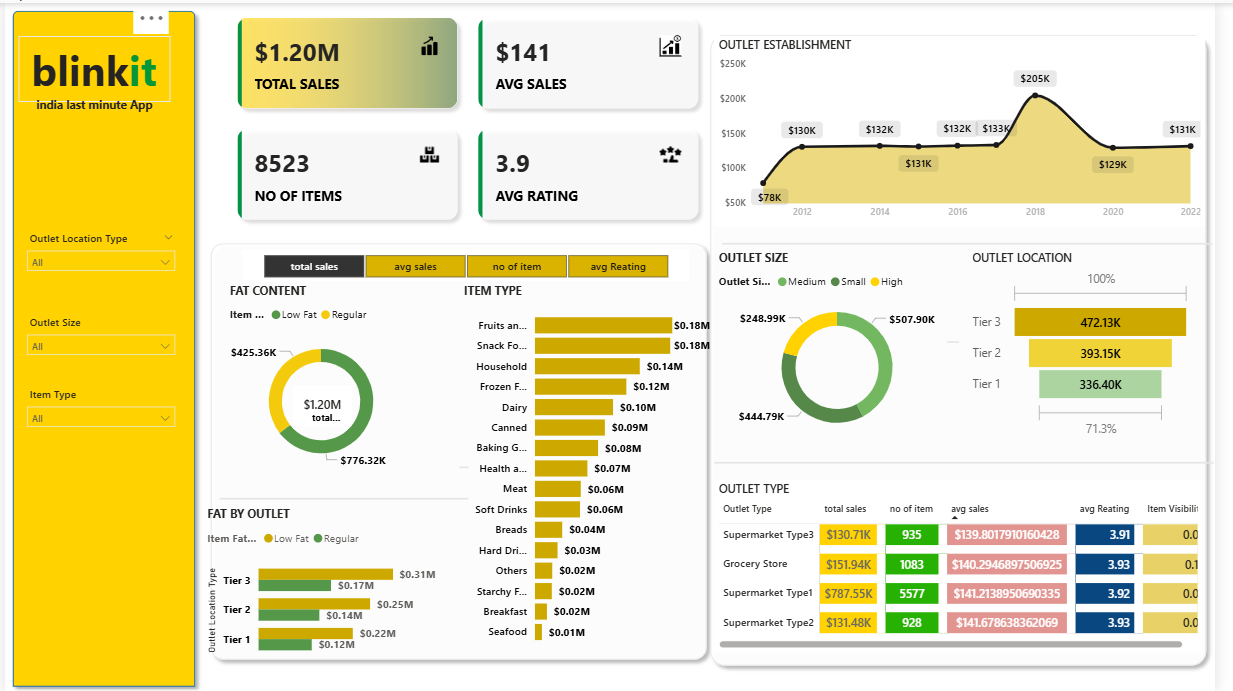

Layout of this report page (visuals, bound fields, positions):
{"tool":"powerbi","page":{"name":"Page 1","canvas":[1400,800],"ordinal":0},"visuals":[{"type":"shape","box":[0,0,229.2,800.6],"z":0},{"type":"textbox","box":[15.6,38.2,175.4,76.4],"z":1000},{"type":"textbox","box":[15.6,102.5,175.4,45.2],"z":2000},{"type":"cardVisual","fields":{"Data":["BlinkIT Grocery Data.total sales","BlinkIT Grocery Data.avg sales","BlinkIT Grocery Data.no of item","BlinkIT Grocery Data.avg Reating"]},"box":[251.8,0,569.6,269.2],"z":3000},{"type":"shape","box":[229.2,269.2,592.2,500.2],"z":4000},{"type":"donutChart","title":"FAT CONTENT","fields":{"Y":["BlinkIT Grocery Data.total sales"],"Category":["BlinkIT Grocery Data.Item Fat Content"]},"box":[255.3,323,220.6,229.2],"z":5000},{"type":"slicer","fields":{"Values":["Parameter.Parameter"]},"box":[274.4,284.8,517.5,38.2],"z":6000},{"type":"cardVisual","fields":{"Data":["BlinkIT Grocery Data.total sales"]},"box":[328.2,437.6,78.1,57.3],"z":7000},{"type":"clusteredBarChart","title":"FAT BY OUTLET","fields":{"Y":["BlinkIT Grocery Data.total sales"],"Category":["BlinkIT Grocery Data.Outlet Location Type"],"Series":["BlinkIT Grocery Data.Item Fat Content"]},"box":[229.2,581.8,274.4,187.6],"z":8000},{"type":"shape","box":[526.2,323,10.4,429],"z":9000},{"type":"shape","box":[247.9,567.5,288.3,12.2],"z":10000},{"type":"barChart","title":"ITEM TYPE","fields":{"Y":["BlinkIT Grocery Data.total sales"],"Category":["BlinkIT Grocery Data.Item Type"]},"box":[526.2,323,295.2,429],"z":11000},{"type":"shape","box":[807.5,27.8,592.2,748.5],"z":12000},{"type":"lineChart","title":"OUTLET ESTABLISHMENT","fields":{"Y":["BlinkIT Grocery Data.total sales"],"Category":["BlinkIT Grocery Data.Outlet Establishment Year"]},"box":[821.4,38.2,567.9,220.6],"z":13000},{"type":"shape","box":[1090.6,277.9,13.9,229.2],"z":14000},{"type":"donutChart","title":"OUTLET SIZE ","fields":{"Y":["BlinkIT Grocery Data.total sales"],"Category":["BlinkIT Grocery Data.Outlet Size"]},"box":[821.4,284.8,283.1,227.5],"z":15000},{"type":"shape","box":[1017.7,482.8,12.2,170.2],"z":16000},{"type":"shape","box":[821.4,526.2,578.3,12.2],"z":17000},{"type":"funnel","title":"OUTLET LOCATION","fields":{"Y":["Sum(BlinkIT Grocery Data.Sales)"],"Category":["BlinkIT Grocery Data.Outlet Location Type"]},"box":[1114.9,284.8,262.2,222.3],"z":18000},{"type":"shape","box":[831.9,538.4,1.7,137.2],"z":19000},{"type":"shape","box":[830.1,272.7,567.9,12.2],"z":20000},{"type":"pivotTable","title":"OUTLET TYPE","fields":{"Rows":["BlinkIT Grocery Data.Outlet Type"],"Values":["BlinkIT Grocery Data.total sales","BlinkIT Grocery Data.no of item","BlinkIT Grocery Data.avg sales","BlinkIT Grocery Data.avg Reating","Avg(BlinkIT Grocery Data.Item Visibility)"]},"box":[821.4,552.3,564.4,199.7],"z":21000},{"type":"slicer","fields":{"Values":["BlinkIT Grocery Data.Outlet Location Type"]},"box":[15.6,258.8,191,72.9],"z":22000},{"type":"slicer","fields":{"Values":["BlinkIT Grocery Data.Outlet Size"]},"box":[15.6,356,191,72.9],"z":23000},{"type":"slicer","fields":{"Values":["BlinkIT Grocery Data.Item Type"]},"box":[15.6,439.4,191,72.9],"z":24000}]}

Visuals, with their boxes in screenshot pixels (x1, y1, x2, y2), scaled from the page's 1400x800 canvas onto the 1233x691 screenshot:
shape: box(0, 0, 202, 690)
textbox: box(14, 33, 168, 99)
textbox: box(14, 89, 168, 128)
cardVisual - BlinkIT Grocery Data.total sales x BlinkIT Grocery Data.avg sales: box(222, 0, 723, 233)
shape: box(202, 233, 723, 665)
"FAT CONTENT" donutChart: box(225, 279, 419, 477)
slicer - Parameter.Parameter: box(242, 246, 697, 279)
cardVisual - BlinkIT Grocery Data.total sales: box(289, 378, 358, 427)
"FAT BY OUTLET" clusteredBarChart: box(202, 503, 444, 665)
shape: box(463, 279, 473, 650)
shape: box(218, 490, 472, 501)
"ITEM TYPE" barChart: box(463, 279, 723, 650)
shape: box(711, 24, 1232, 671)
"OUTLET ESTABLISHMENT" lineChart: box(723, 33, 1224, 224)
shape: box(961, 240, 973, 438)
"OUTLET SIZE " donutChart: box(723, 246, 973, 442)
shape: box(896, 417, 907, 564)
shape: box(723, 455, 1232, 465)
"OUTLET LOCATION" funnel: box(982, 246, 1213, 438)
shape: box(733, 465, 734, 584)
shape: box(731, 236, 1231, 246)
"OUTLET TYPE" pivotTable: box(723, 477, 1220, 650)
slicer - BlinkIT Grocery Data.Outlet Location Type: box(14, 224, 182, 287)
slicer - BlinkIT Grocery Data.Outlet Size: box(14, 307, 182, 370)
slicer - BlinkIT Grocery Data.Item Type: box(14, 380, 182, 442)
